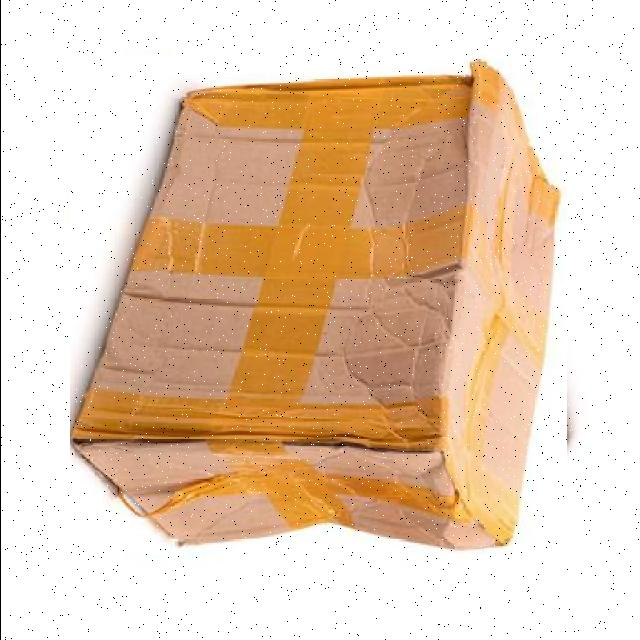defect: (69, 55, 566, 554)
